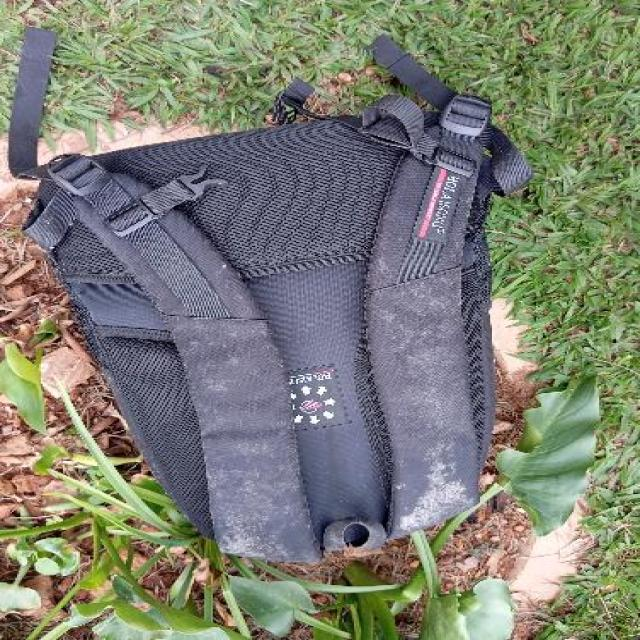canta: (8, 28, 534, 563)
